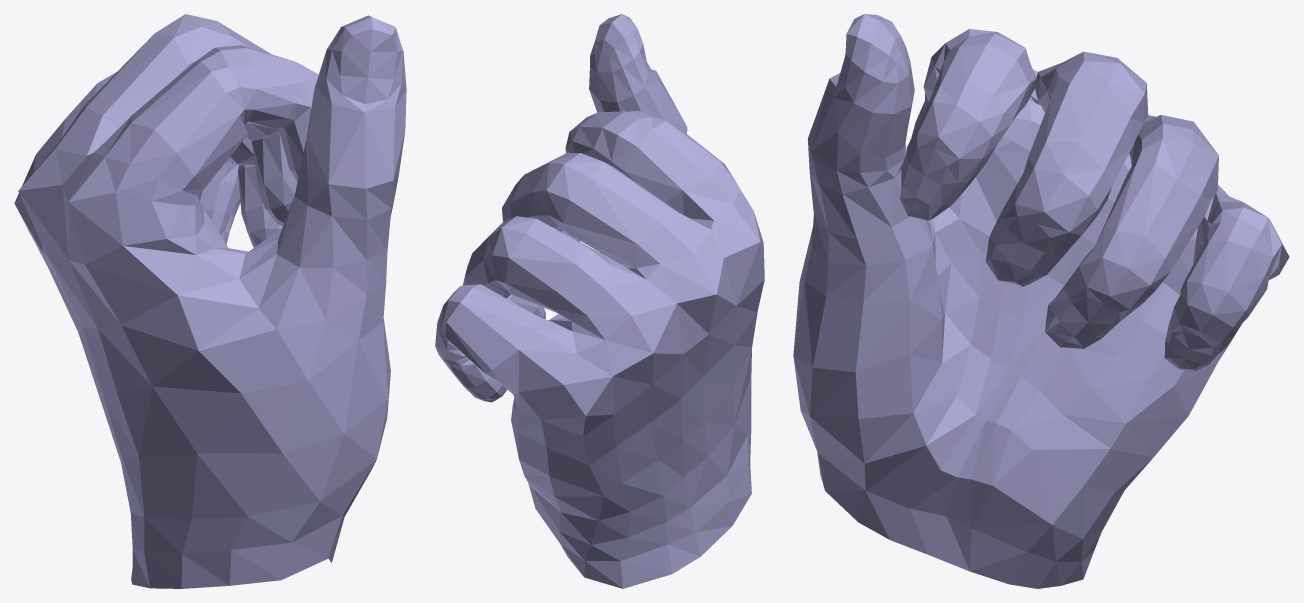
The model's file is frame_0070_source_000070_hand.glb.
3 views of the same model, side by side, from view 1: azimuth 30°, elevation 25°; view 2: azimuth 150°, elevation 25°; view 3: azimuth 270°, elevation 25° (orthographic). The views are drawn at different scales.
Visible parts, largest first — view 1: world; view 2: world; view 3: world.
Boxes of the visible parts, <box> form: world: <box>14,14,406,588</box>; world: <box>435,14,764,588</box>; world: <box>793,14,1289,588</box>.
Bounding box in the file's own units: 0.0648 × 0.1257 × 0.0944.
